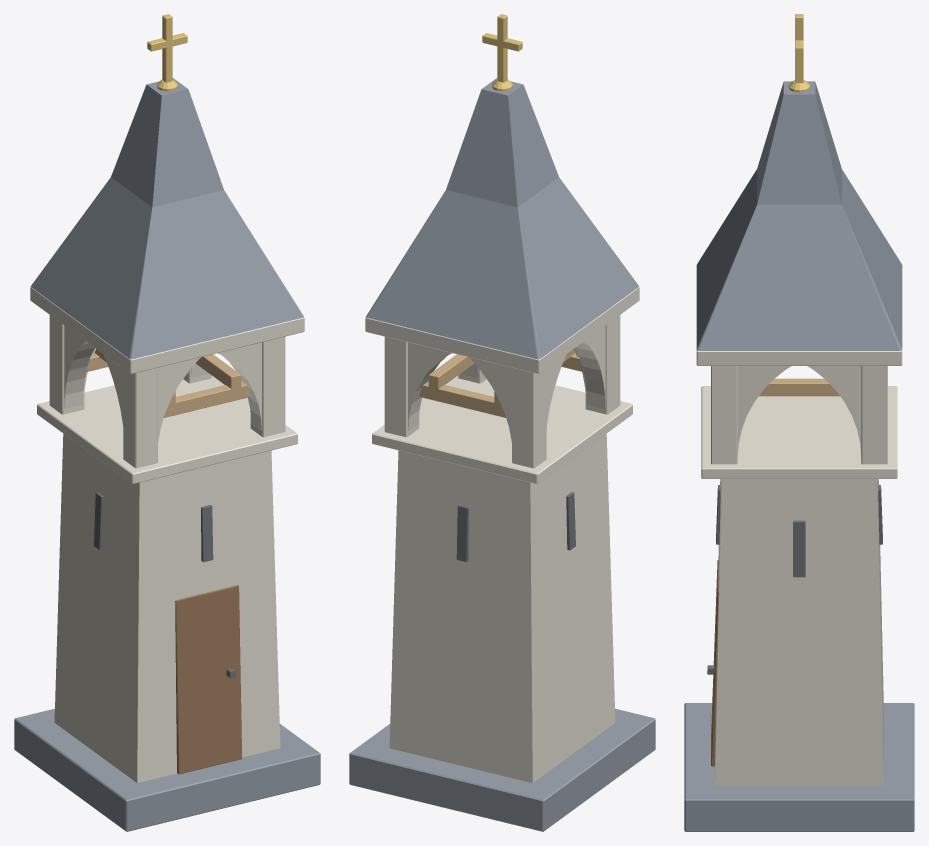
File: wedding-and-chapel-kit-chapel-steeple-b1f4ed58__39375.glb
The picture shows the model from 3 angles, left to right: view 1: azimuth 30°, elevation 25°; view 2: azimuth 150°, elevation 25°; view 3: azimuth 270°, elevation 25°; orthographic projection. The views are drawn at different scales.
Visible parts, largest first — view 1: chapel-steeple; view 2: chapel-steeple; view 3: chapel-steeple.
Part boxes in pixels (x1,y1,x2,y2): chapel-steeple: (14, 14, 320, 831); chapel-steeple: (349, 14, 655, 831); chapel-steeple: (684, 14, 914, 831).
Bounding box in the file's own units: 1.9 × 7 × 1.9.
